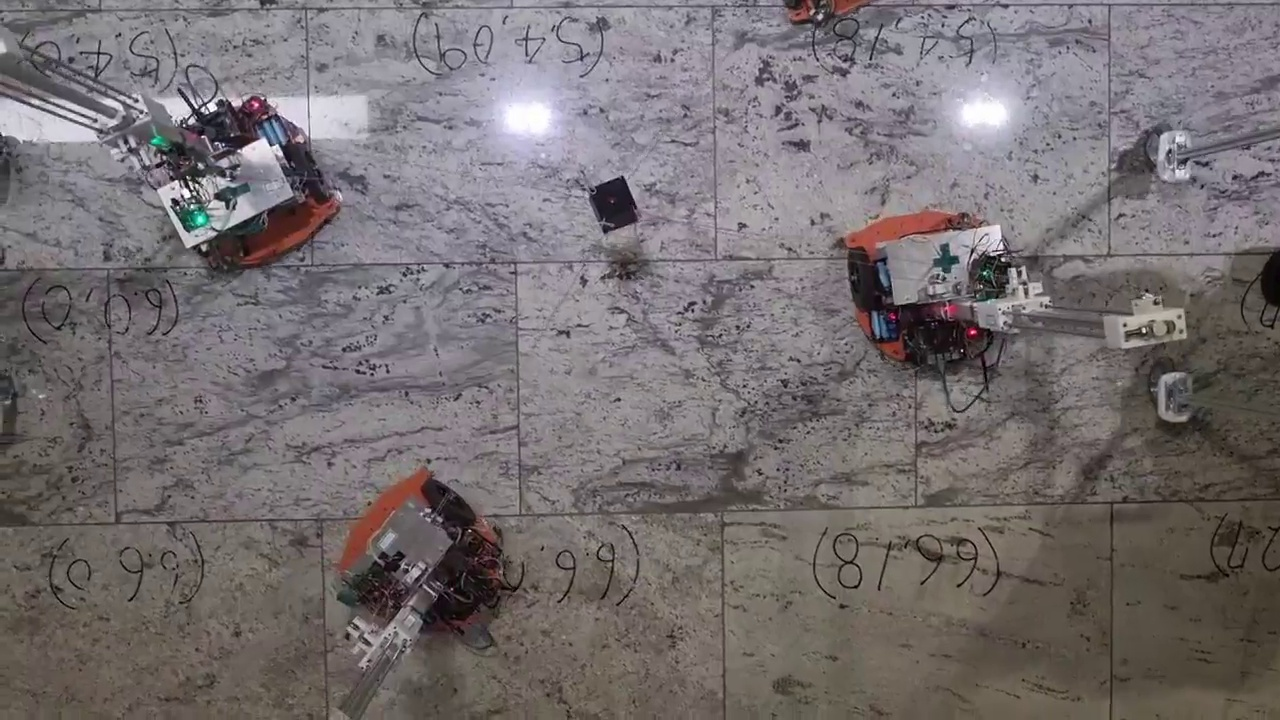e0: (589, 175, 640, 233)
r1: (848, 227, 1015, 313)
r2: (850, 1, 859, 13)
r3: (178, 142, 328, 257)
r4: (344, 479, 475, 616)
y_+_axis_vector: (723, 503, 1113, 512)
y_-_axis_vector: (321, 512, 723, 520)
